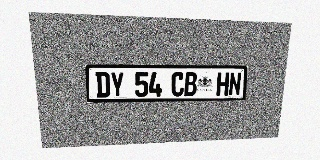4: (149, 72, 162, 97)
5: (135, 72, 148, 97)
B: (184, 72, 197, 96)
C: (171, 72, 184, 96)
D: (95, 72, 110, 98)
H: (216, 72, 229, 96)
N: (228, 72, 242, 96)
Y: (110, 72, 124, 97)
